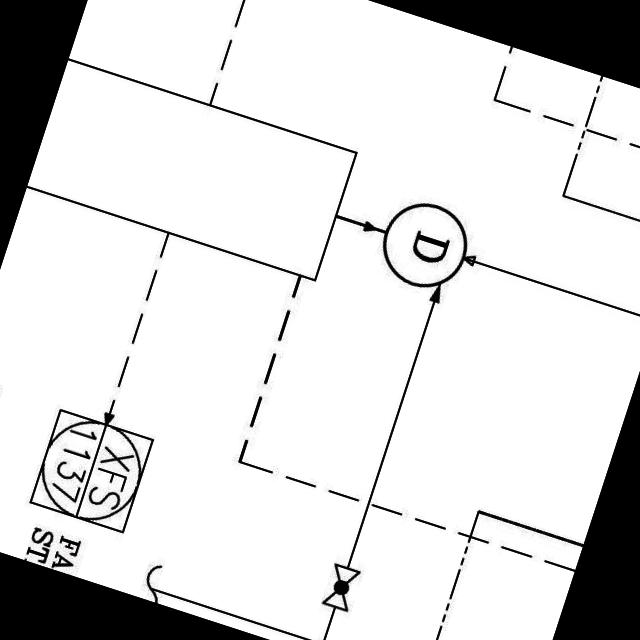BV2: (317, 556, 367, 618)
